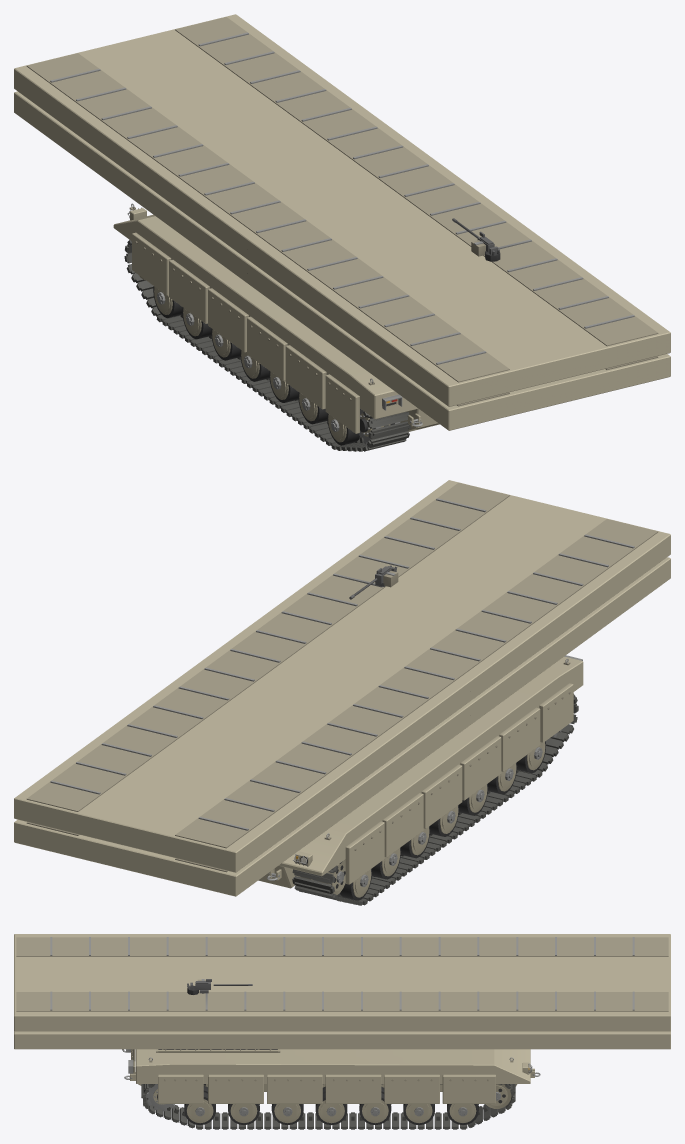
File: usa_eng_wolv.glb
3 renders of one model, top to bottom at view 1: azimuth 30°, elevation 25°; view 2: azimuth 150°, elevation 25°; view 3: azimuth 270°, elevation 25°, orthographic. The views are drawn at different scales.
Parts seen in each view (by area): view 1: body; view 2: body; view 3: body, barrel.
Part boxes in pixels (left/top/right/bottom): body: left=14, top=14, right=670, bottom=451; body: left=14, top=480, right=670, bottom=905; body: left=14, top=934, right=670, bottom=1129; barrel: left=187, top=979, right=252, bottom=993.
Size of the model in its own units: 3.9 by 2.91 by 13.2.
